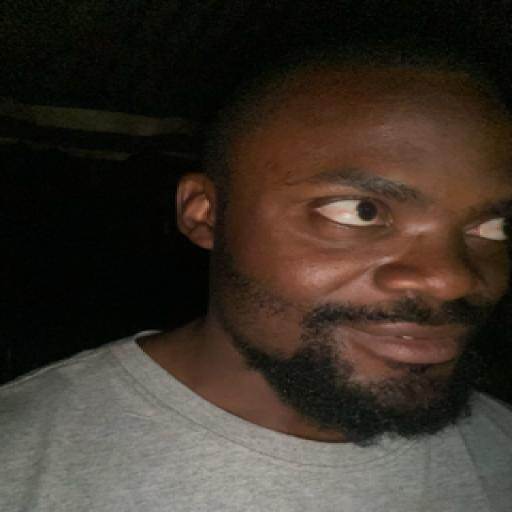JEANLUC: (180, 54, 512, 455)
